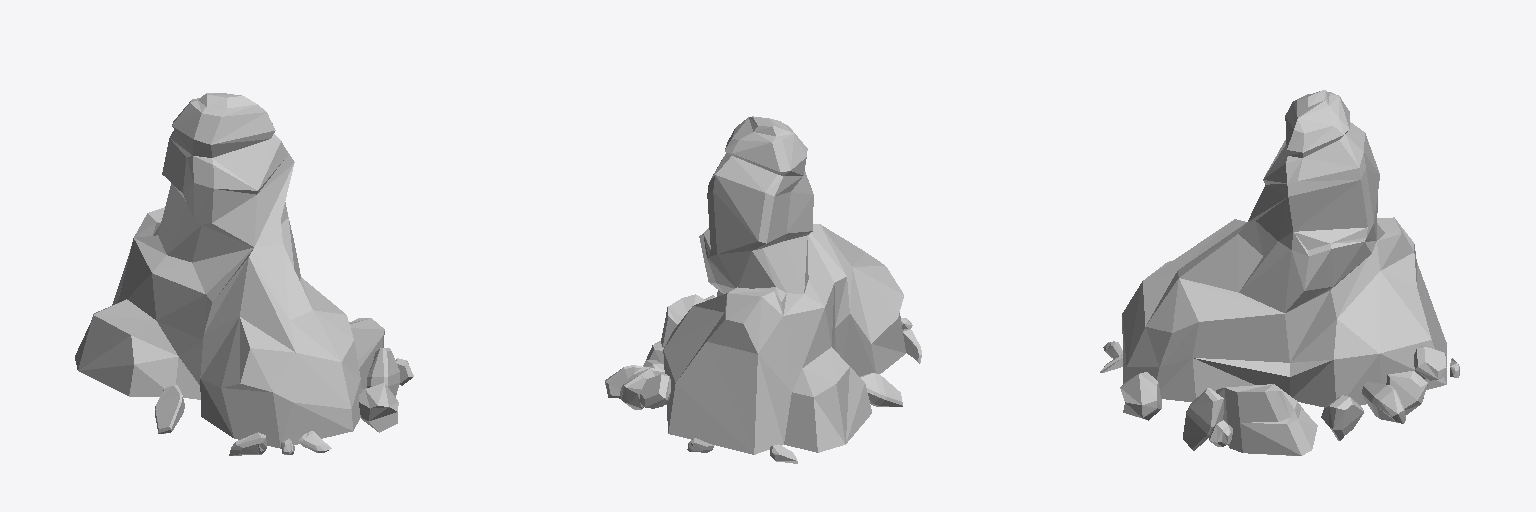
The model's file is Columna.obj.
The picture shows the model from 3 angles: view 1: azimuth 30°, elevation 25°; view 2: azimuth 150°, elevation 25°; view 3: azimuth 270°, elevation 25°; orthographic projection.
Parts seen in each view (by area): view 1: Column02_Mesh.003; view 2: Column02_Mesh.003; view 3: Column02_Mesh.003.
Boxes of the visible parts, <box> form: Column02_Mesh.003: <box>75,93,413,455</box>; Column02_Mesh.003: <box>605,116,921,463</box>; Column02_Mesh.003: <box>1100,90,1459,455</box>.
Size of the model in its own units: 9.29 by 10.58 by 11.33.